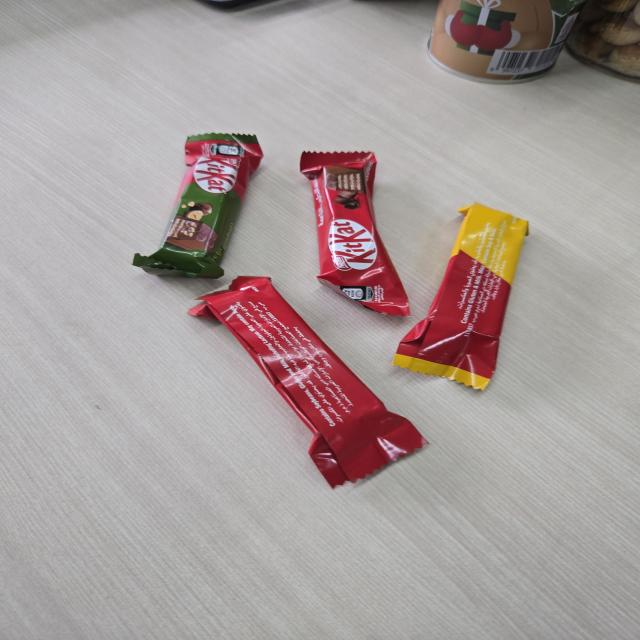chocolate-bar: (182, 271, 430, 498), (390, 196, 536, 398), (128, 129, 263, 287), (300, 148, 410, 322)
